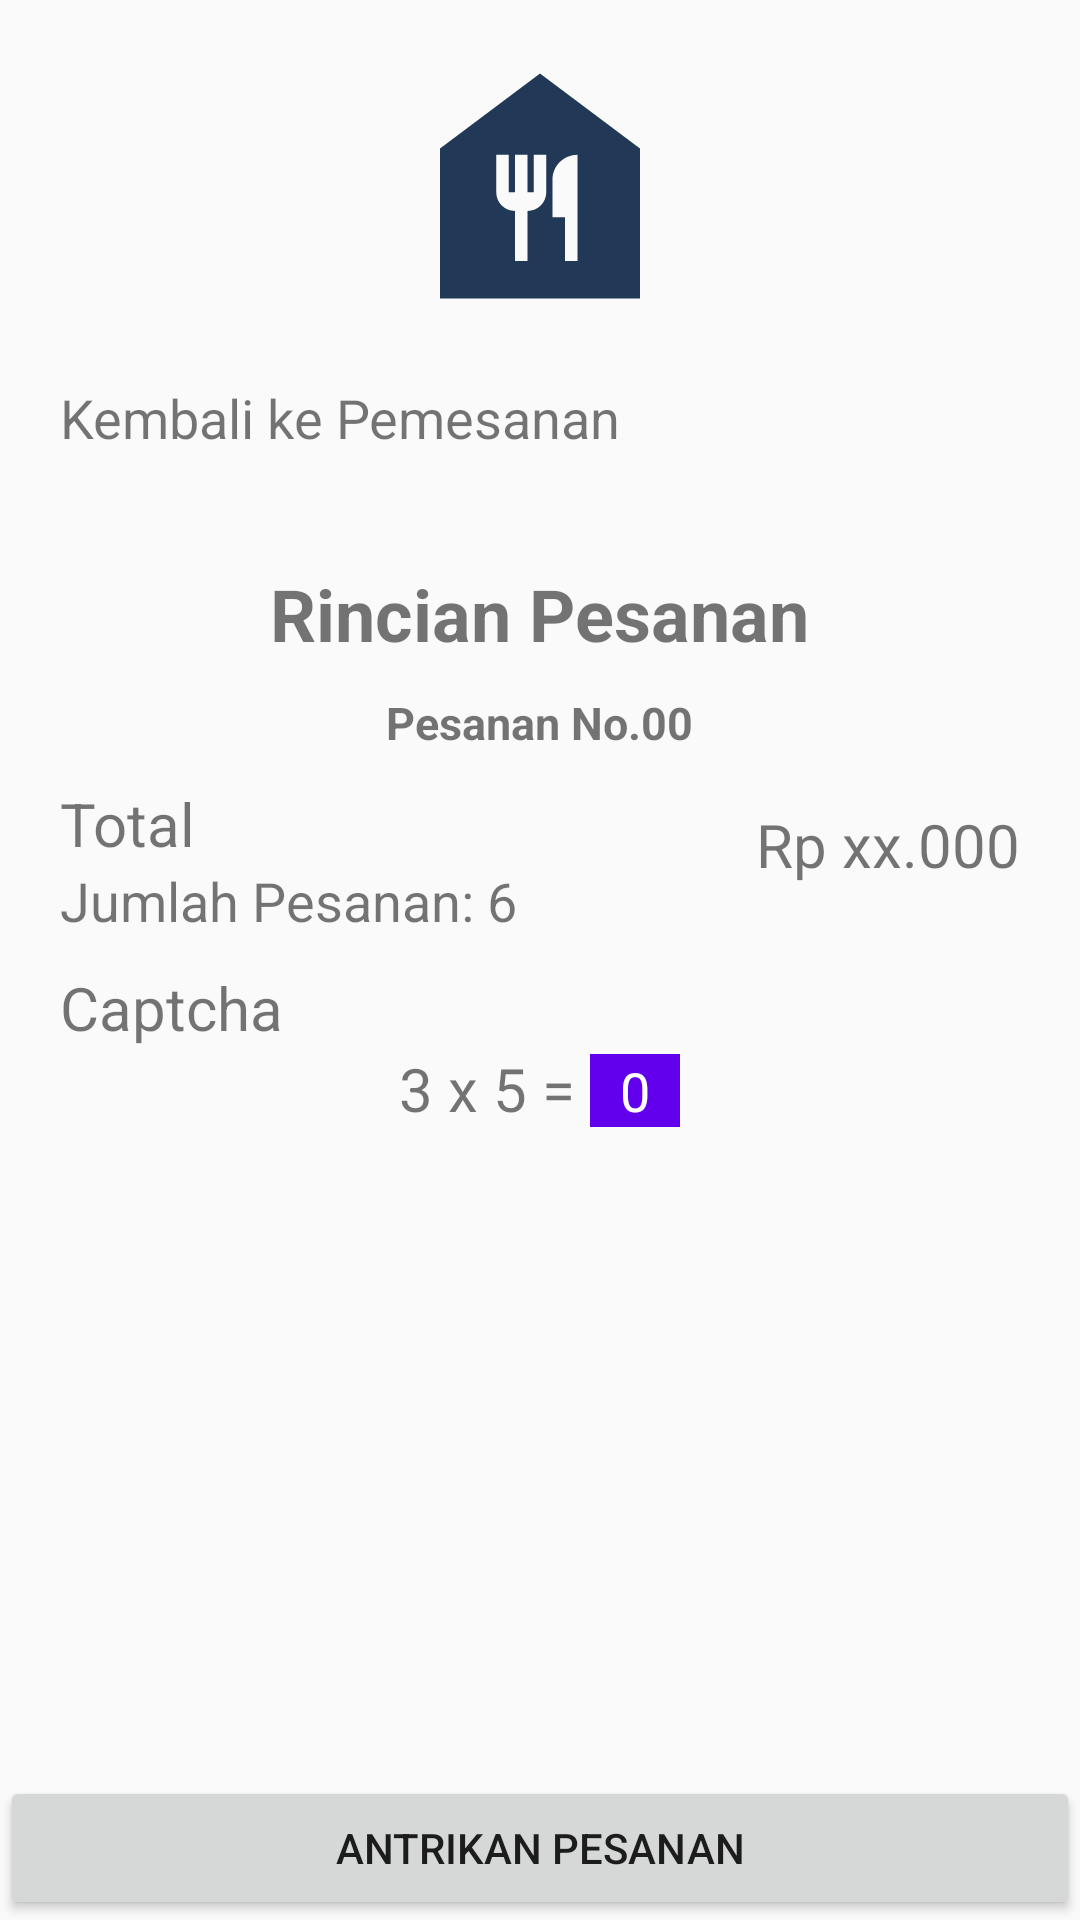

Locate icon controls on the screen. Image size 1080×1920, boxes as (x1, y1, x2, y2).
food bank: (440, 73, 640, 299)
